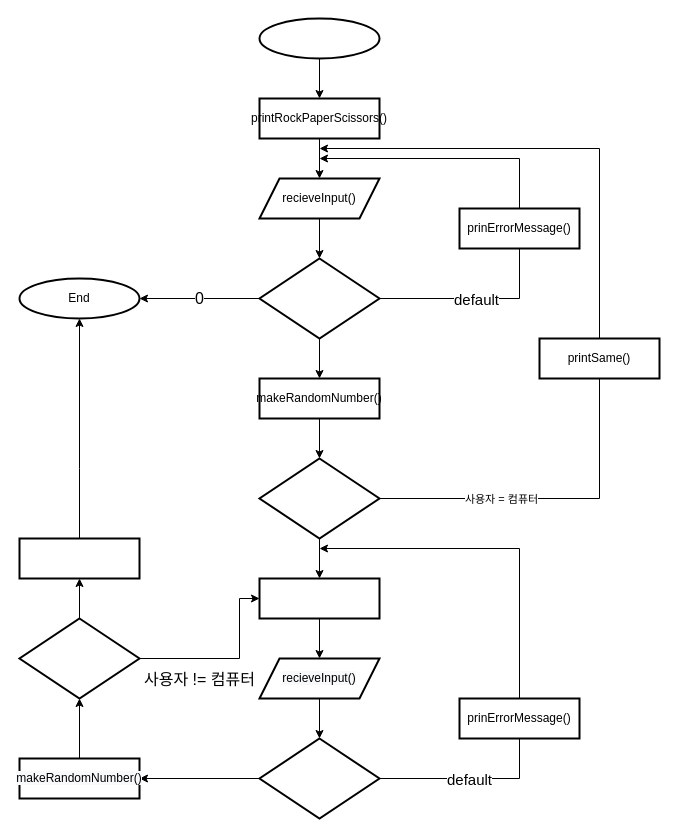
The diagram is 678 pixels wide and 836 high, and some of its shapes have lost their labels. The shapes that lost their labels are listed below. From the top down, each one's centre as x and y in pixels, then its label:
At pixel 319 38: "start".
At pixel 79 558: "printWinner()".
At pixel 319 598: "printMukjipa(turnOwner: String)".
